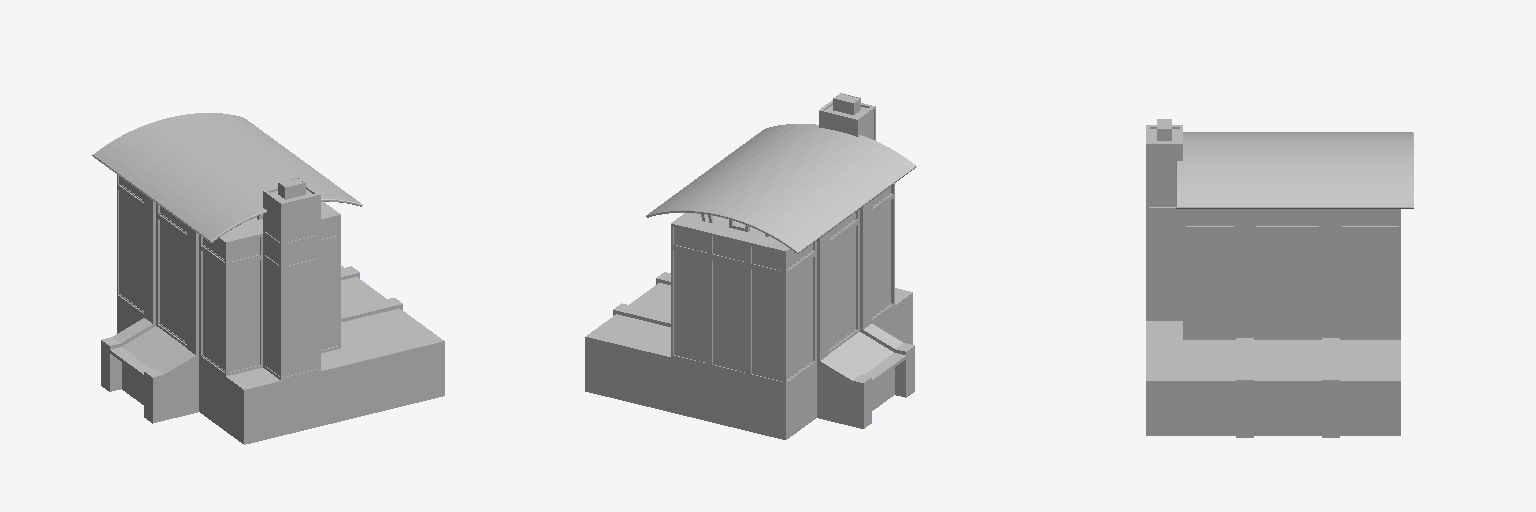
File: Building 1.obj
3 views of the same model, side by side, from view 1: azimuth 30°, elevation 25°; view 2: azimuth 150°, elevation 25°; view 3: azimuth 270°, elevation 25° (orthographic).
Visible parts, largest first — view 1: Building_20; view 2: Building_20; view 3: Building_20.
Boxes of the visible parts, x1,y1,x2,y2 form: Building_20: [92, 113, 444, 444]; Building_20: [585, 93, 916, 439]; Building_20: [1146, 119, 1413, 437].
Bounding box in the file's own units: 2176 × 2008 × 2008.